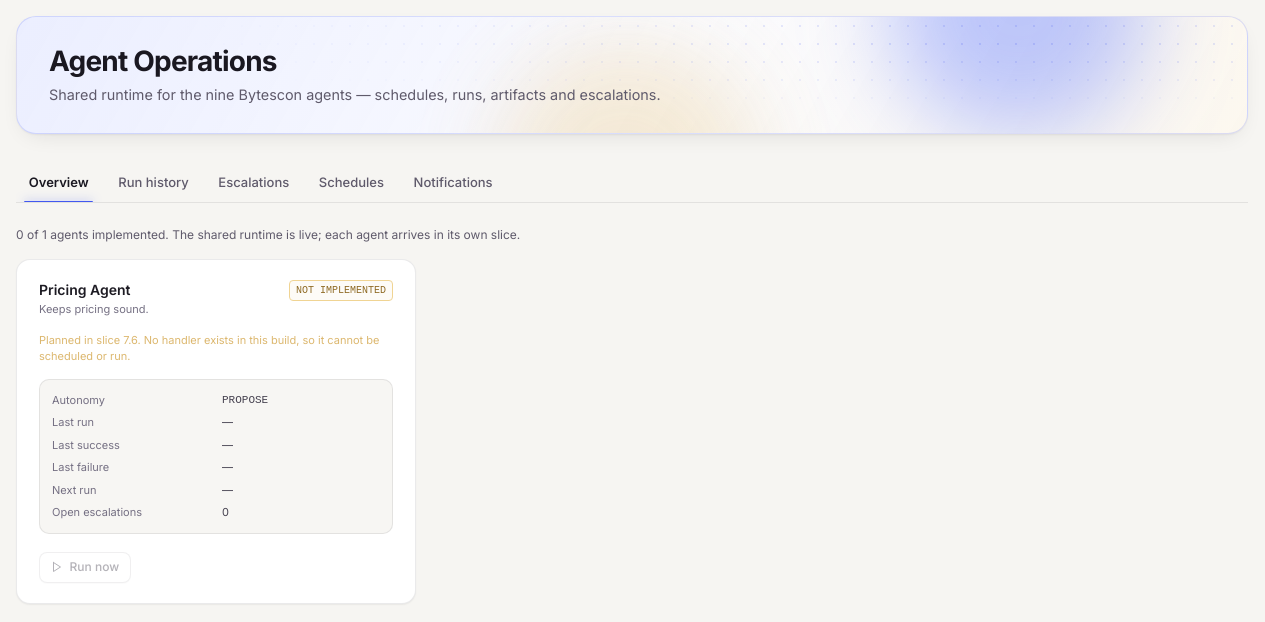
Test: Agents — escalations › shows the empty state
The width and height of the screenshot is (1265, 622).
Expected: the heading "Pricing Agent" is shown, top-left (39, 282), bottom-right (130, 298)
Click the tab "Escalations": (254, 182) top-left (206, 162), bottom-right (302, 202)
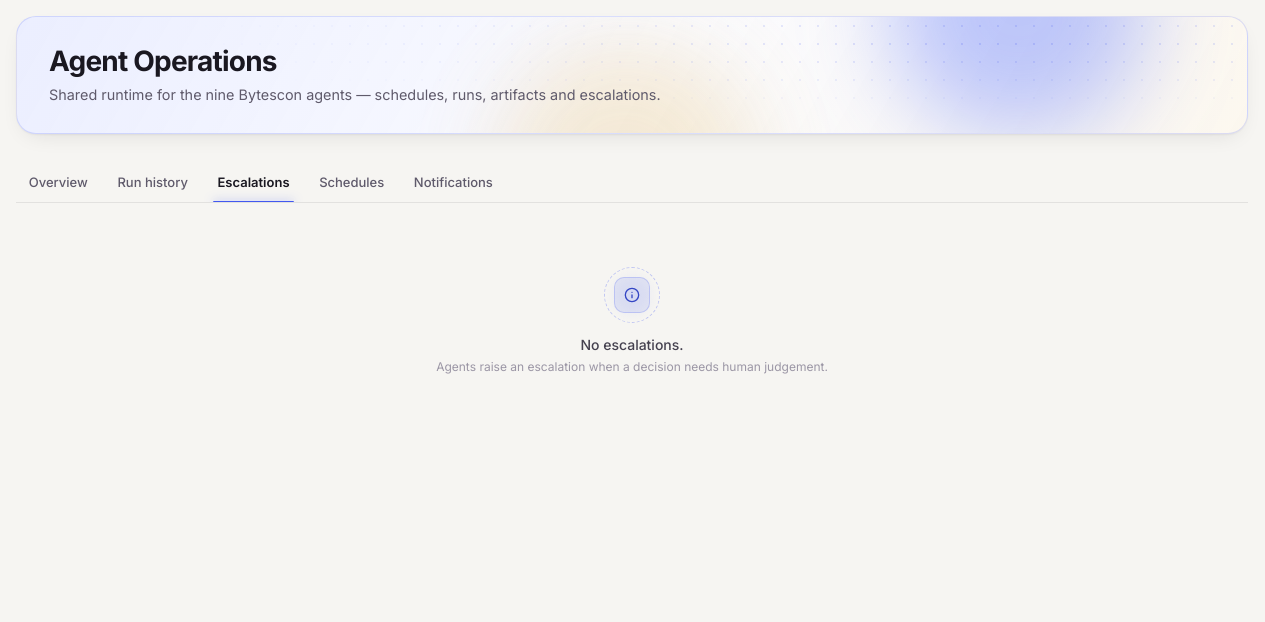
Now the text "No escalations." is shown, box top-left (580, 336), bottom-right (684, 354)
